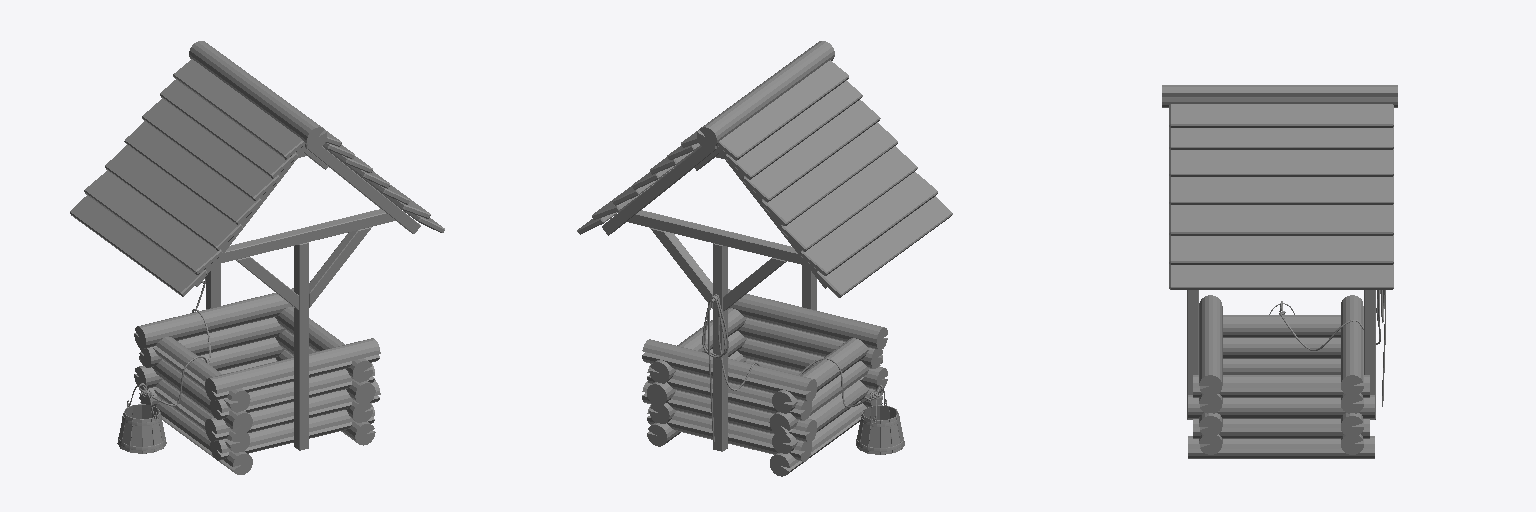
The model's file is Wooden_well.obj.
3 renders of one model, left to right at view 1: azimuth 30°, elevation 25°; view 2: azimuth 150°, elevation 25°; view 3: azimuth 270°, elevation 25°, orthographic.
Parts seen in each view (by area): view 1: 1, 4, 3, 6, 5, 7, 2, 9; view 2: 1, 4, 3, 6, 5, 7, 2, 9, 8; view 3: 2, 7, 4, 5, 6, 3, 8.
Boxes of the visible parts, <box> form: 1: <box>70,59,304,296</box>; 4: <box>189,41,380,460</box>; 3: <box>195,144,420,450</box>; 6: <box>134,288,293,405</box>; 5: <box>139,337,252,474</box>; 7: <box>275,307,375,445</box>; 2: <box>323,130,444,232</box>; 9: <box>117,404,166,453</box>; 1: <box>717,60,952,297</box>; 4: <box>697,41,887,407</box>; 3: <box>602,146,826,451</box>; 6: <box>642,339,816,461</box>; 5: <box>769,338,882,476</box>; 7: <box>647,308,746,446</box>; 2: <box>577,130,700,234</box>; 9: <box>710,298,904,454</box>; 8: <box>702,294,882,441</box>; 2: <box>1169,104,1393,289</box>; 7: <box>1188,375,1374,458</box>; 4: <box>1162,85,1397,454</box>; 5: <box>1223,315,1340,374</box>; 6: <box>1341,295,1363,454</box>; 3: <box>1187,290,1375,419</box>; 8: <box>1279,290,1385,406</box>.
Bounding box in the file's own units: 263 × 320 × 200.